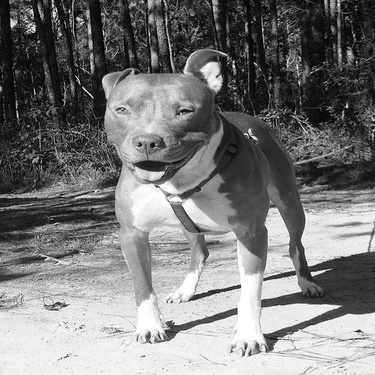dog: (86, 42, 334, 360)
